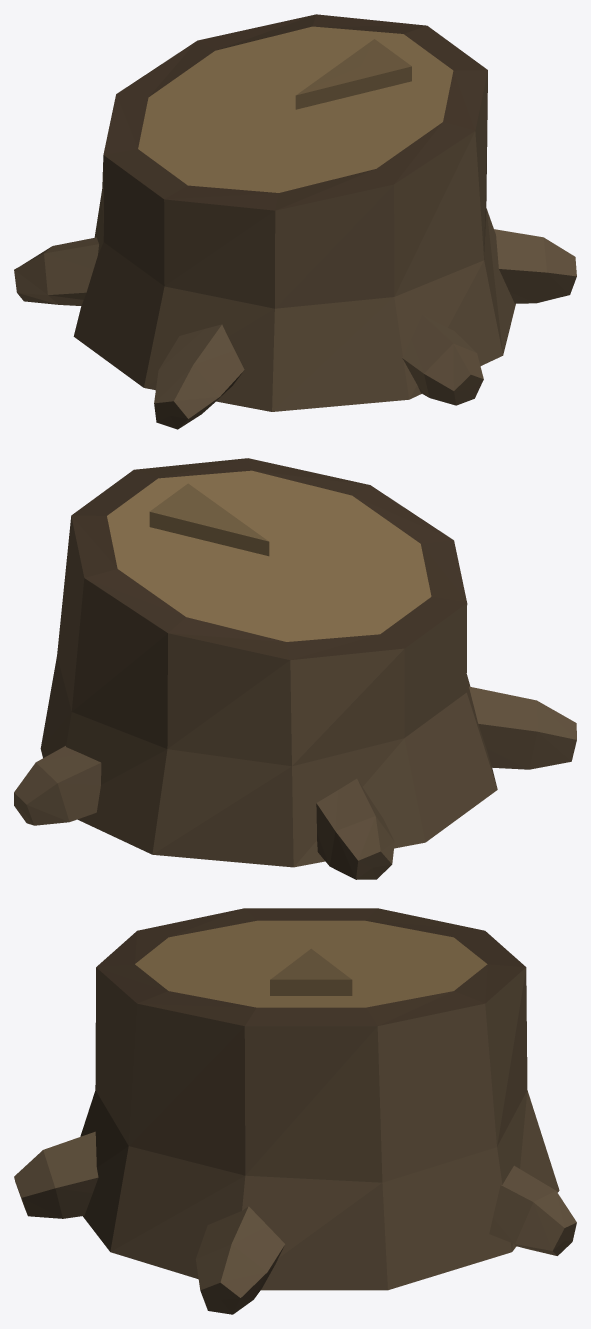
Rendered from stump_chopped_2.obj.
3 renders of one model, top to bottom at view 1: azimuth 30°, elevation 25°; view 2: azimuth 150°, elevation 25°; view 3: azimuth 270°, elevation 25°, orthographic. The views are drawn at different scales.
Visible parts, largest first — view 1: stump_chopped_2; view 2: stump_chopped_2; view 3: stump_chopped_2.
Part boxes in pixels (x1,y1,x2,y2): stump_chopped_2: [14, 14, 576, 429]; stump_chopped_2: [14, 458, 576, 879]; stump_chopped_2: [14, 908, 576, 1314].
Bounding box in the file's own units: 0.7075 × 0.353 × 0.6855.
